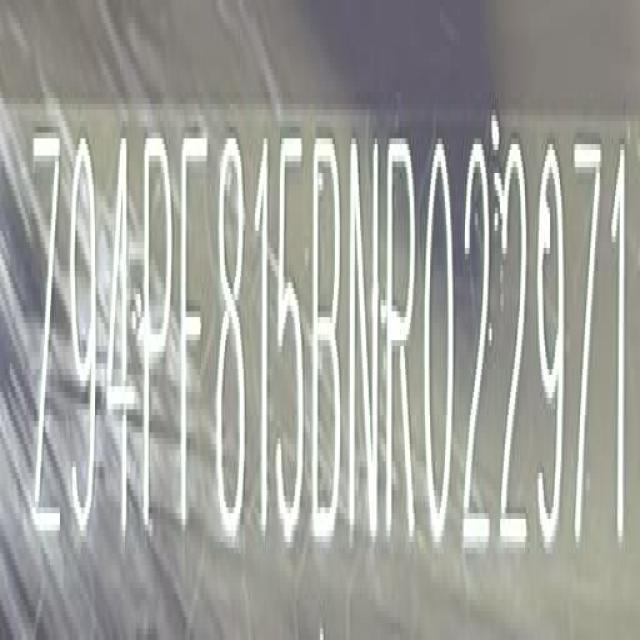0: (422, 132, 456, 555)
1: (253, 134, 275, 551), (611, 135, 632, 564)
2: (458, 133, 492, 558), (498, 134, 530, 563)
4: (102, 131, 141, 539)
5: (277, 130, 306, 549)
7: (571, 130, 603, 562)
8: (213, 134, 248, 548)
9: (536, 132, 568, 563), (71, 126, 98, 532)
B: (308, 134, 344, 553)
F: (177, 130, 209, 534)
N: (348, 132, 380, 550)
P: (144, 135, 172, 538)
R: (384, 129, 420, 555)
Z: (30, 137, 64, 536)
